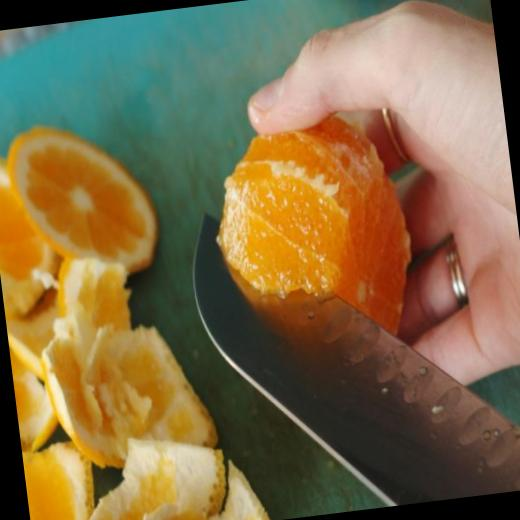Grape: (205, 103, 426, 364), (0, 110, 172, 294)
